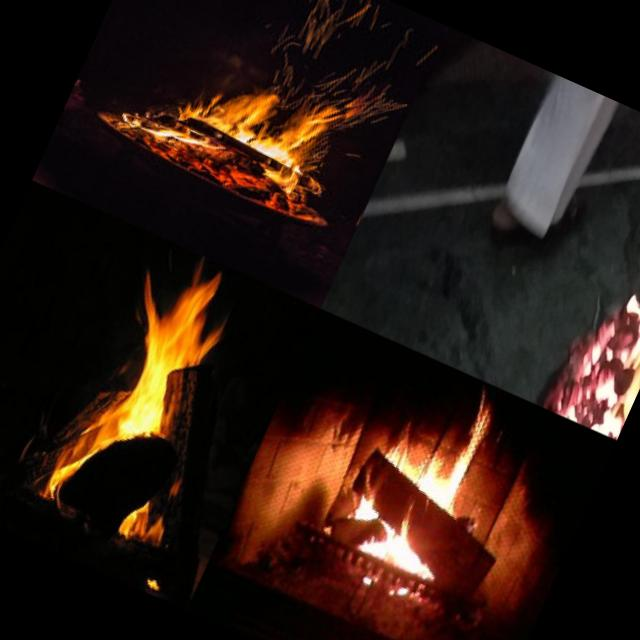fire: (26, 246, 248, 533), (327, 367, 511, 596), (131, 48, 343, 210), (549, 128, 640, 440)
